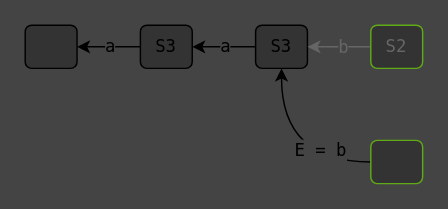
Some shapes in this 448 by 209 pixel diagram are drawn without their labels. Each missing label, with the centre of its shape:
S0: (x=50, y=46)
S4: (x=396, y=161)
